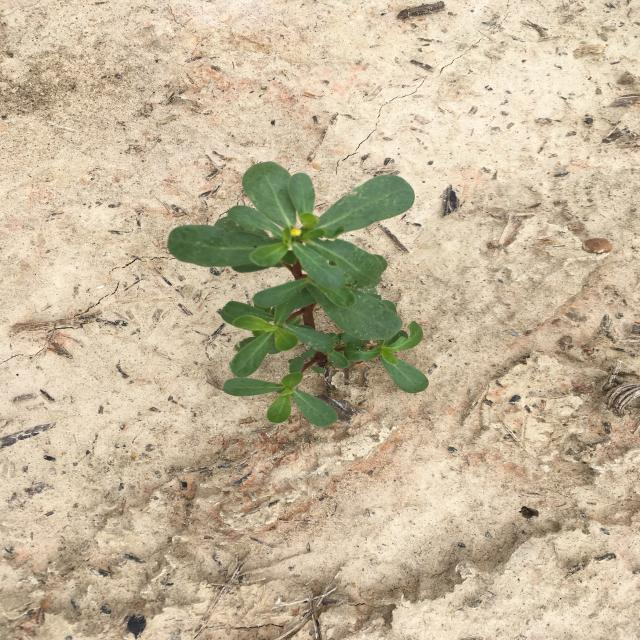Purslane: (168, 162, 429, 428)
